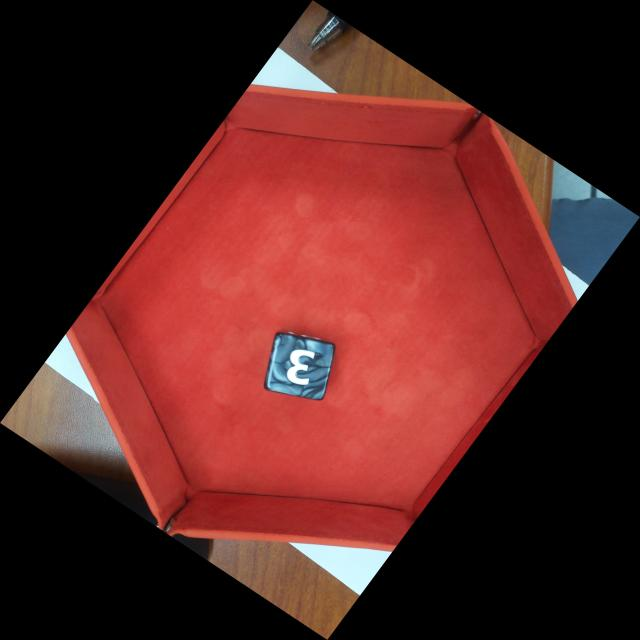dice: (263, 331, 337, 403)
